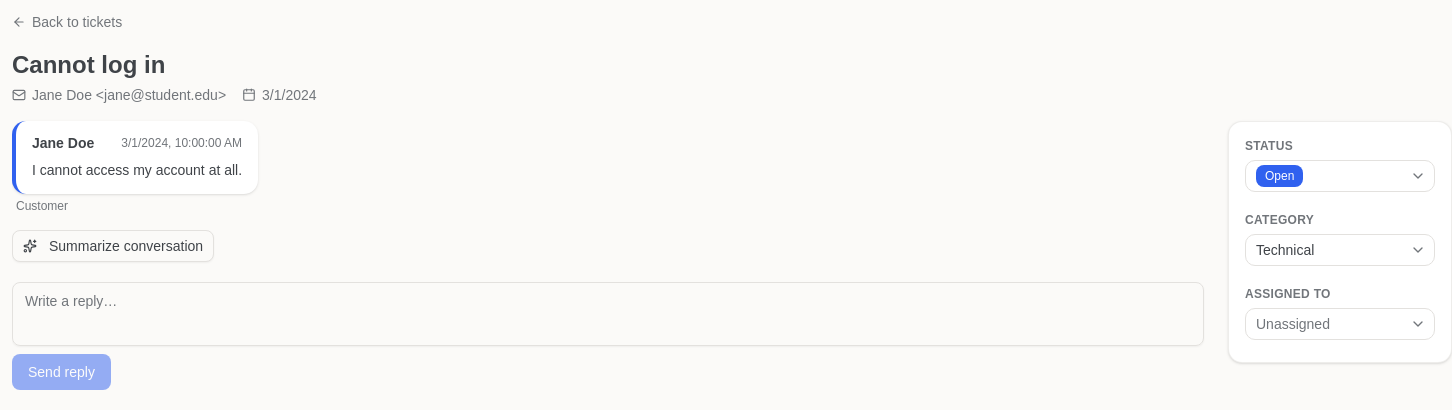
Scenario: Polish Button › replaces the textarea content with the polished reply
Type "Draft reply" into the text box with placeholder "Write a reply…" at (608, 314), box [12,282,1204,346]
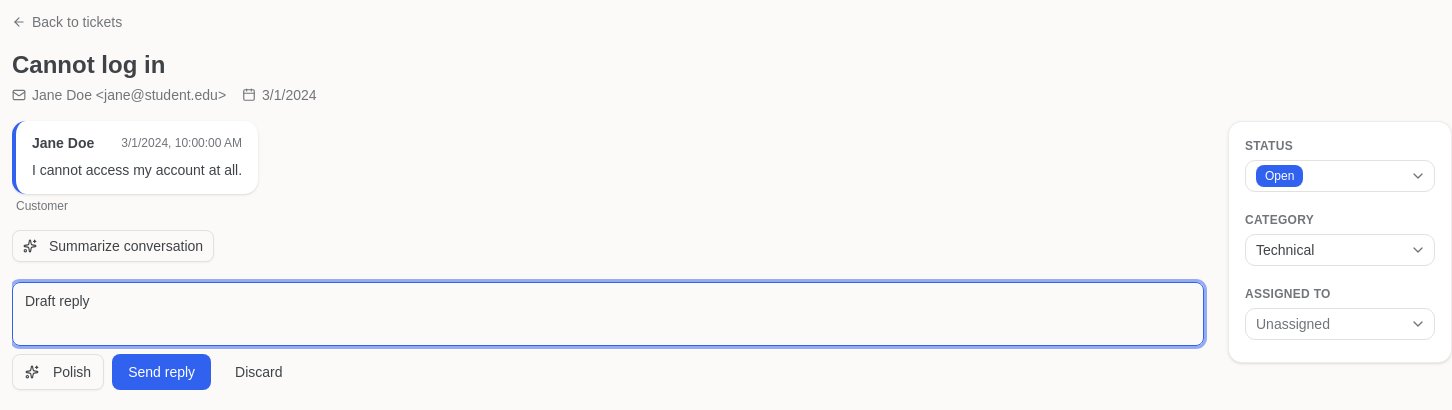
Click the button "Polish" at (58, 372), box [12,354,104,390]
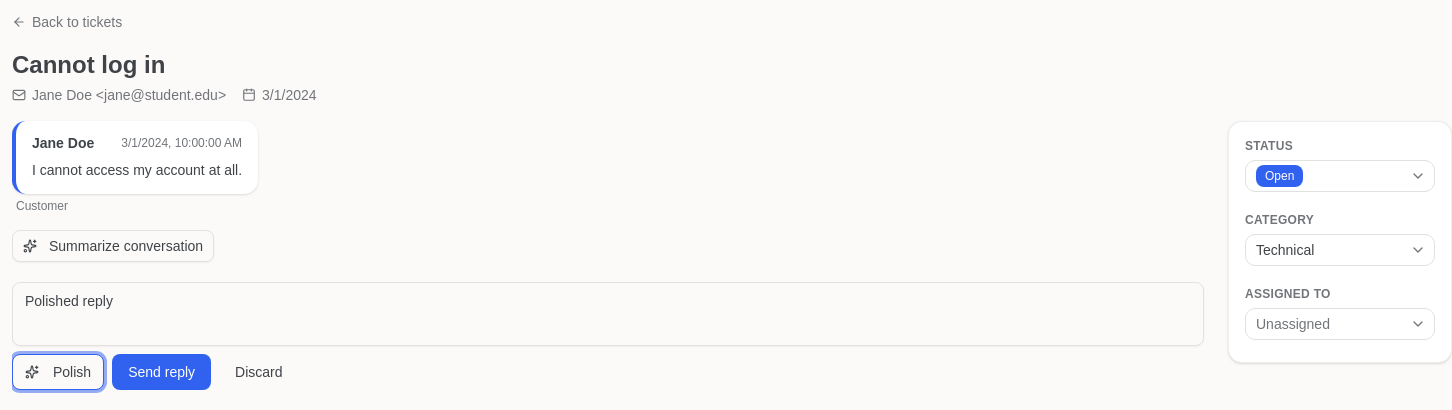
Expected: the text box with placeholder "Write a reply…" holds "Polished reply", [12,282,1204,346]
